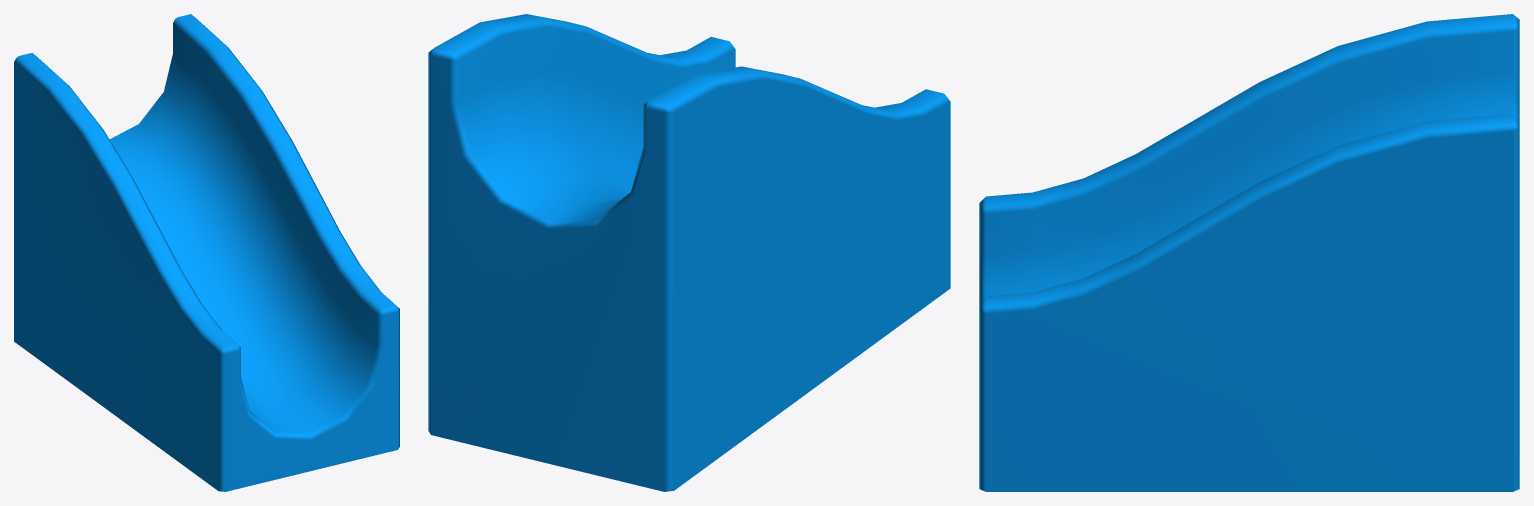
Rendered from Track Ramp Straight 1x2.fbx.
3 views of the same model, side by side, from view 1: azimuth 30°, elevation 25°; view 2: azimuth 150°, elevation 25°; view 3: azimuth 270°, elevation 25° (orthographic). The views are drawn at different scales.
Parts seen in each view (by area): view 1: Track Ramp Straight 1x2; view 2: Track Ramp Straight 1x2; view 3: Track Ramp Straight 1x2.
Part boxes in pixels (<box>): Track Ramp Straight 1x2: <box>14,14,399,491</box>; Track Ramp Straight 1x2: <box>428,14,950,491</box>; Track Ramp Straight 1x2: <box>979,14,1519,491</box>.
Size of the model in its own units: 100 by 150 by 200.
